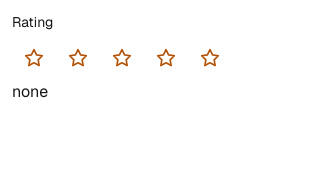
it: Rating (input) › controlled value
Click the 5th radio button named "5 out of 5 stars": (210, 58) [188, 36, 232, 80]
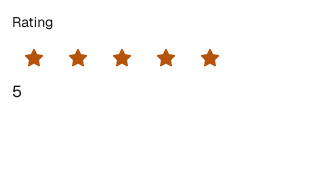
expect the 5th radio button named "5 out of 5 stars" is checked: met, box [188, 36, 232, 80]
expect the text with test id "out" reads "5": met, box [12, 81, 22, 102]
